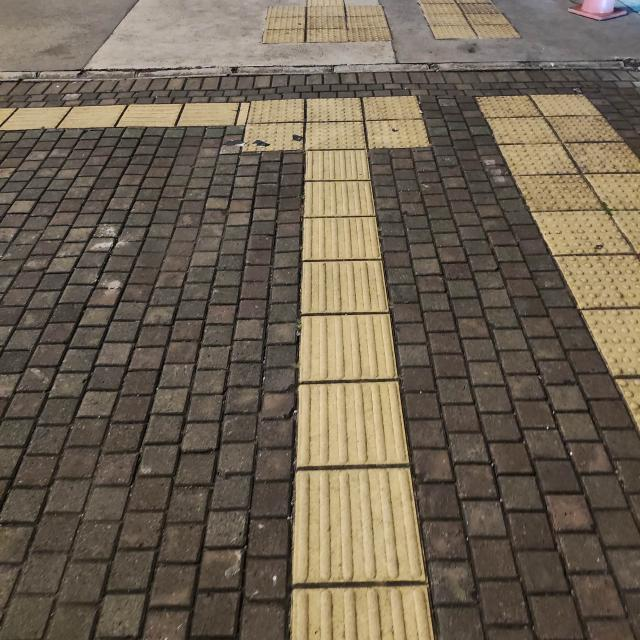kiri: (188, 72, 387, 188)
